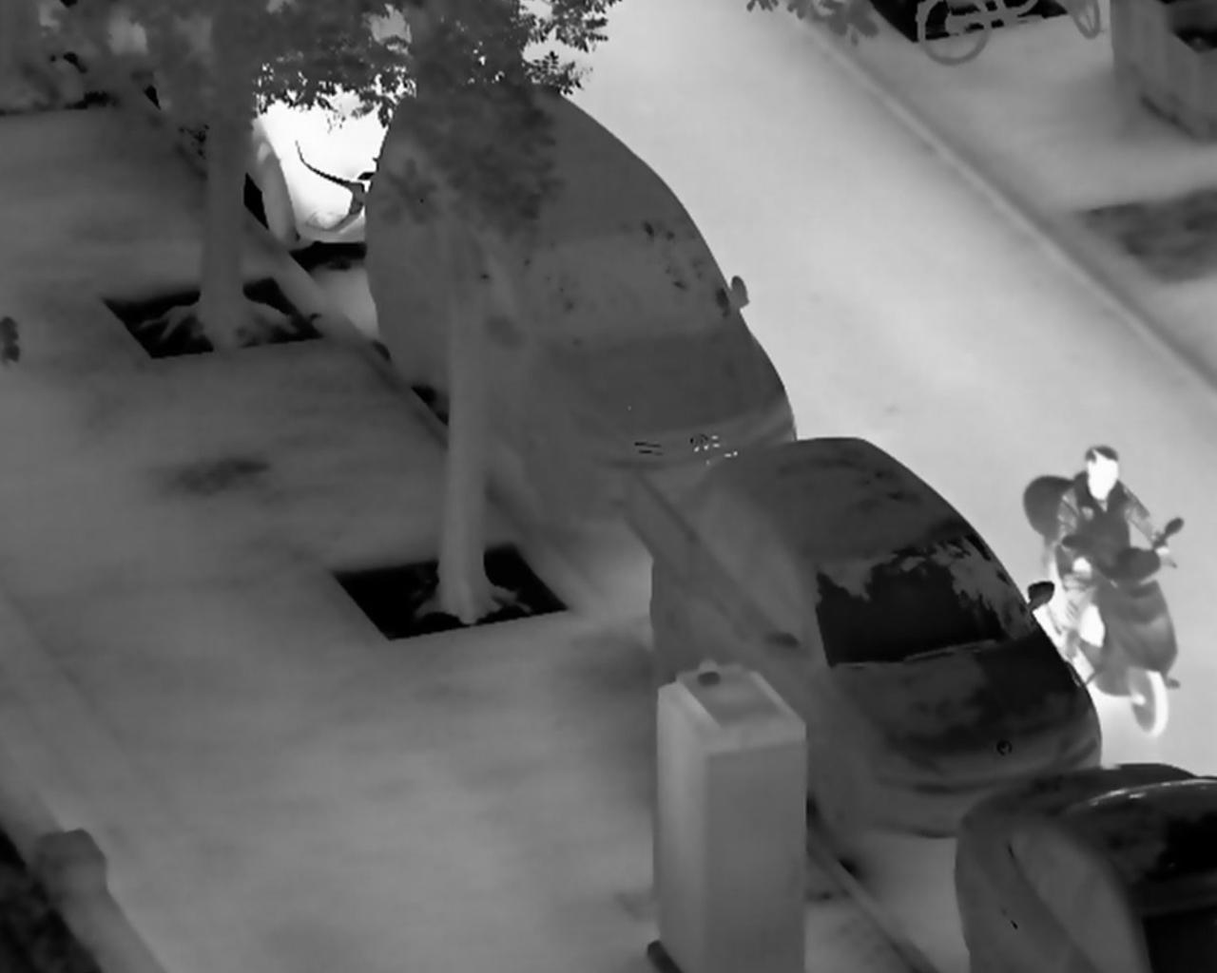person: (1056, 446, 1179, 665)
